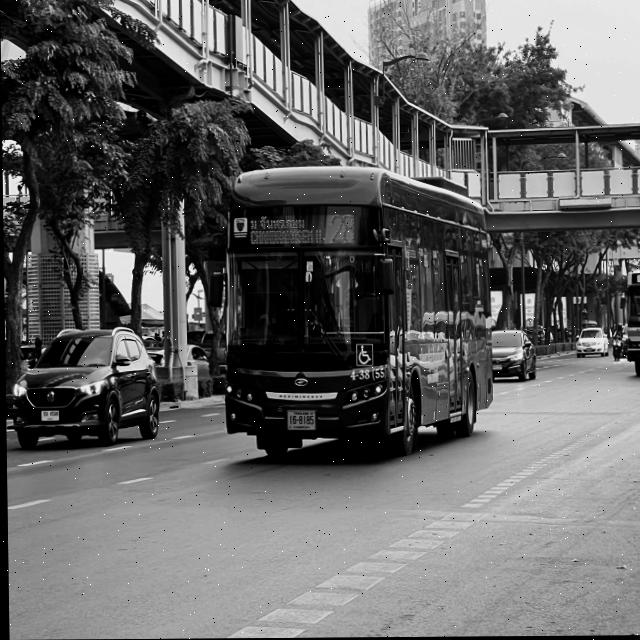Bus Line Number: (327, 212, 357, 247)
Bus Side Number: (347, 365, 387, 384)
Destination Sign: (245, 213, 326, 248)
TSB-Bus: (214, 152, 497, 461)
